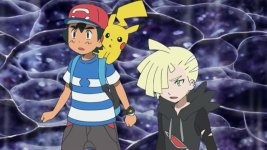pikachu: (91, 1, 150, 72)
